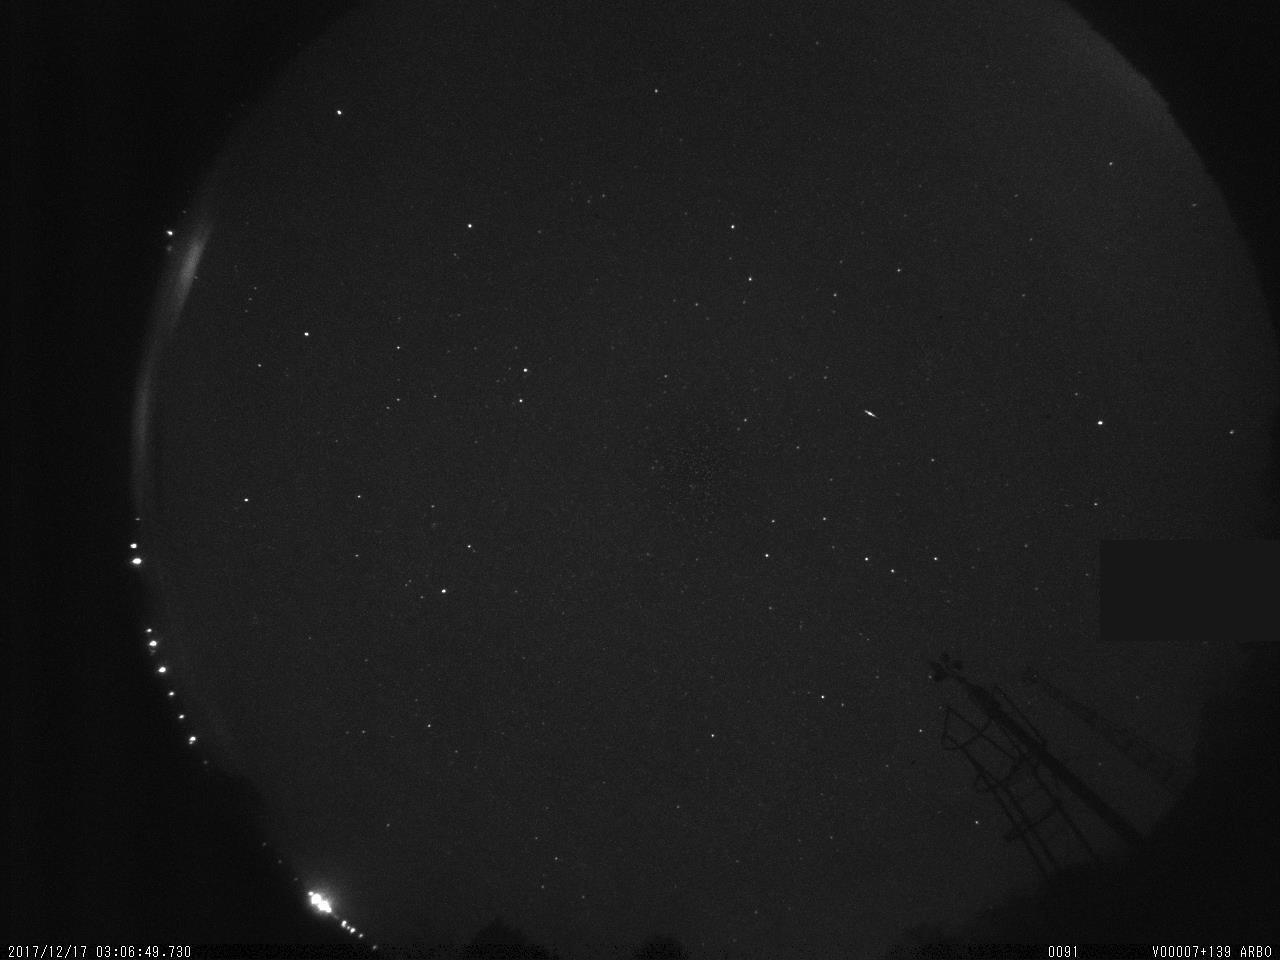Meteor: (857, 400, 887, 426)
